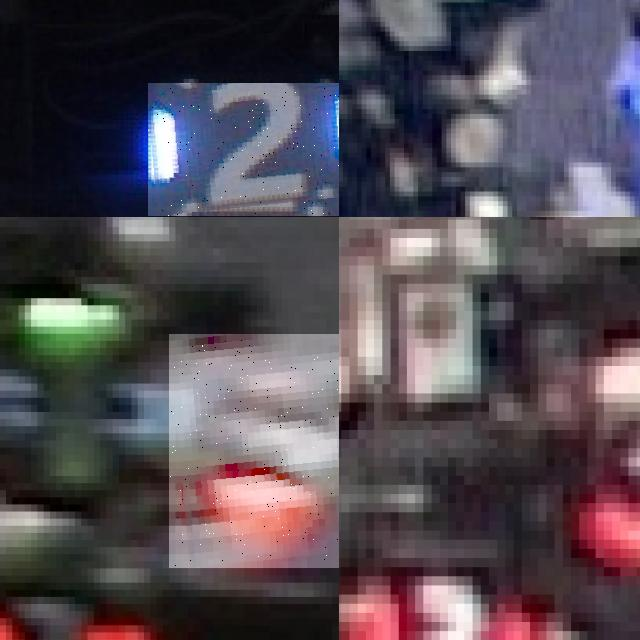B2: (148, 83, 339, 215)
R3: (169, 334, 339, 568), (341, 567, 538, 640), (0, 586, 178, 640)
